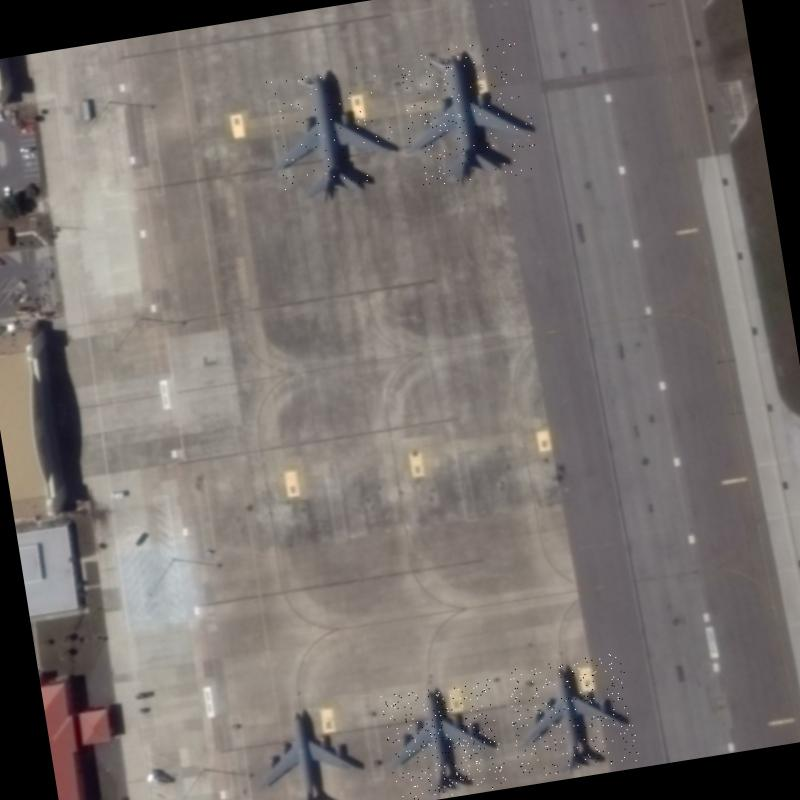A14: (504, 652, 640, 778), (380, 678, 508, 800), (245, 698, 376, 800)
A18: (395, 35, 540, 191), (262, 59, 400, 205)
